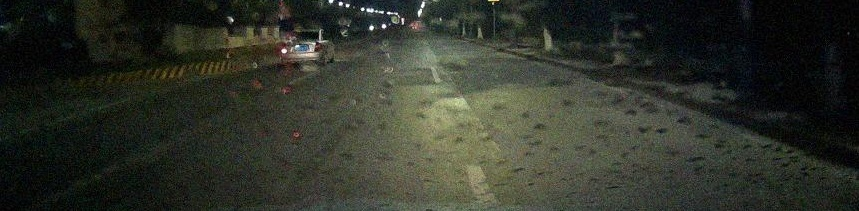L_light: (281, 47, 292, 53)
R_light: (314, 42, 322, 52)
T_light: (302, 31, 310, 34)
night-left: (280, 28, 324, 69)
